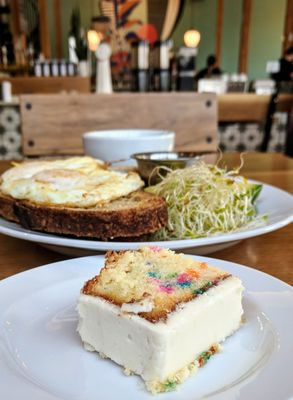sushi: (82, 128, 176, 162), (131, 152, 195, 183)
